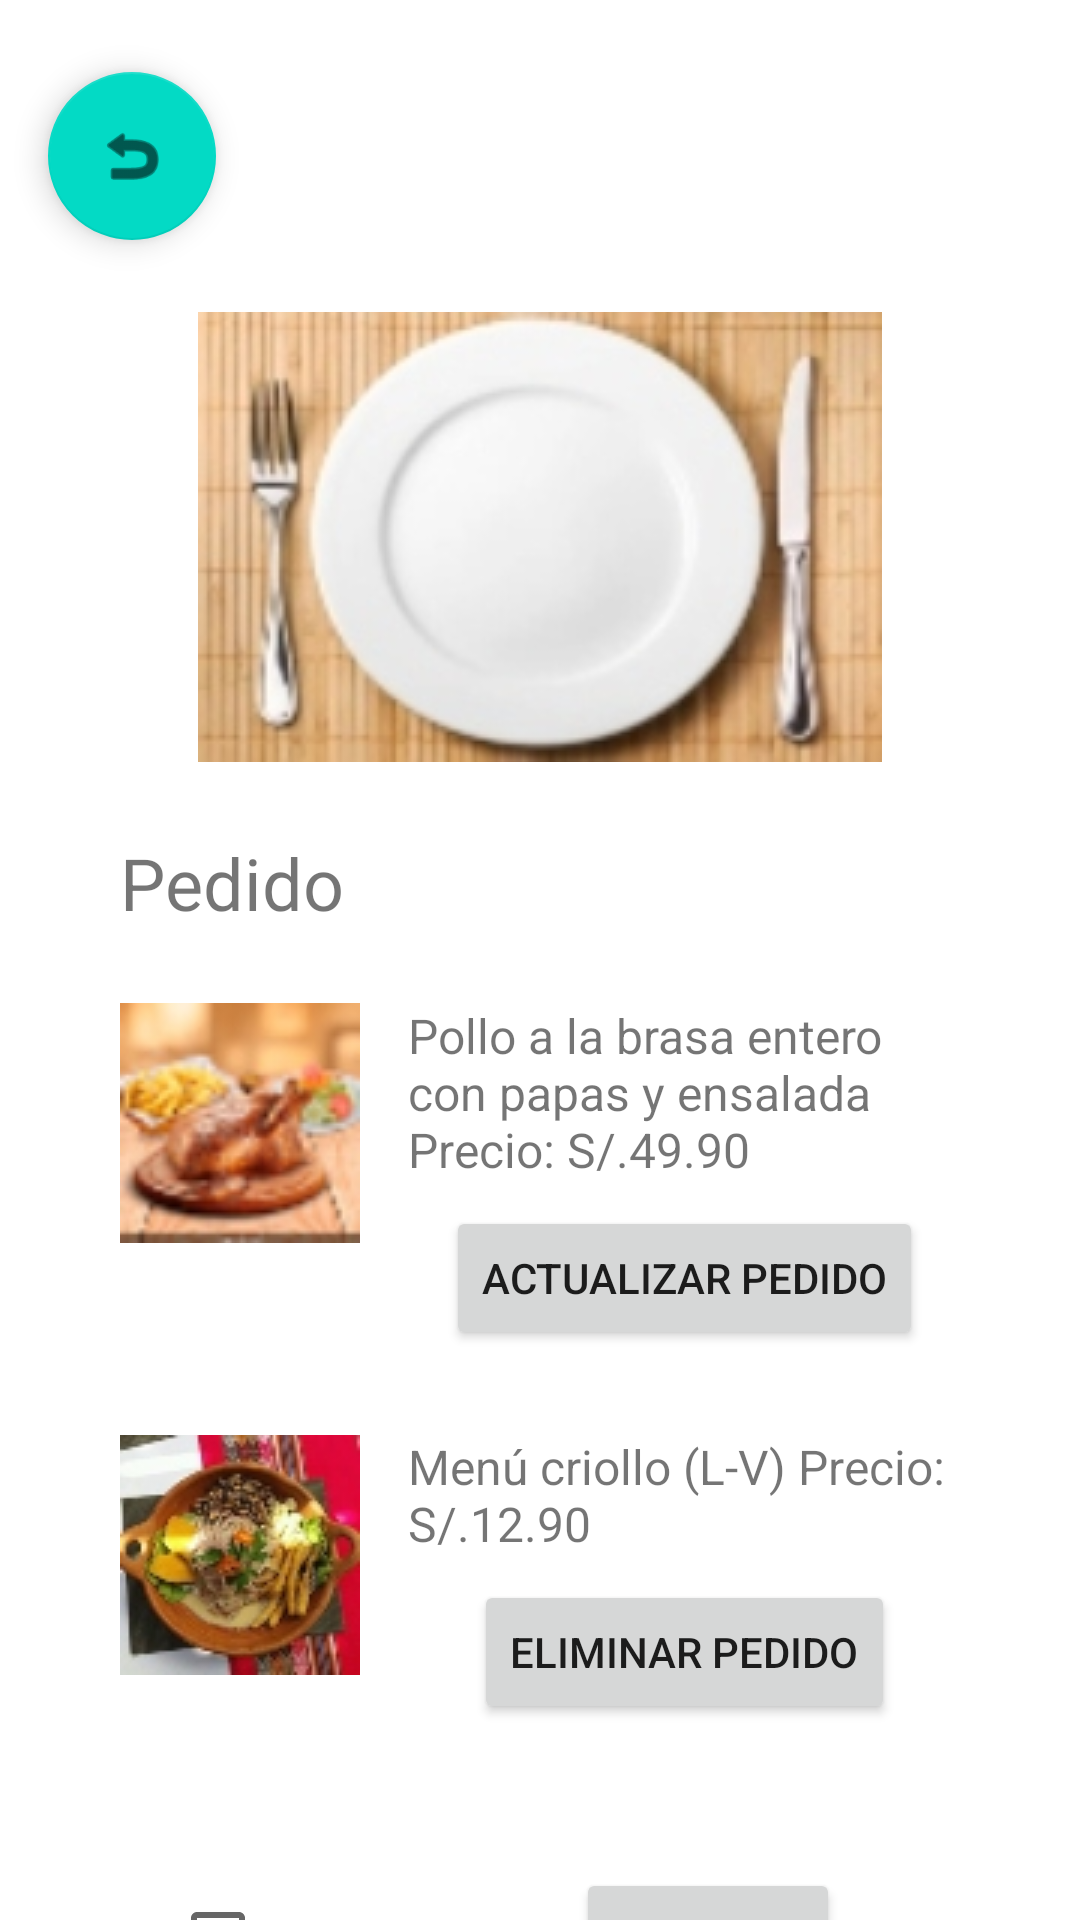

Screen size 1080*1920. Icon name, then its center in pixels as (x=x, y=y):
comidacriolla: (x=240, y=1555)
pollobrasa: (x=240, y=1123)
revert: (x=132, y=156)
